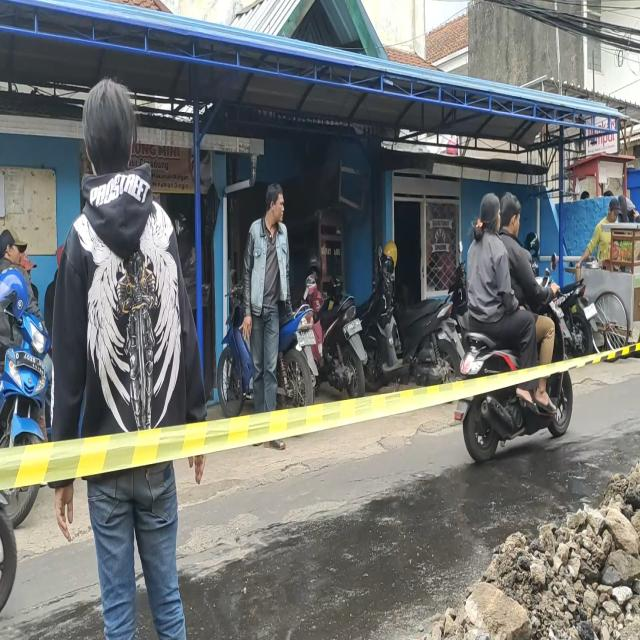no-helmet: (503, 195, 522, 236), (481, 196, 500, 232)
